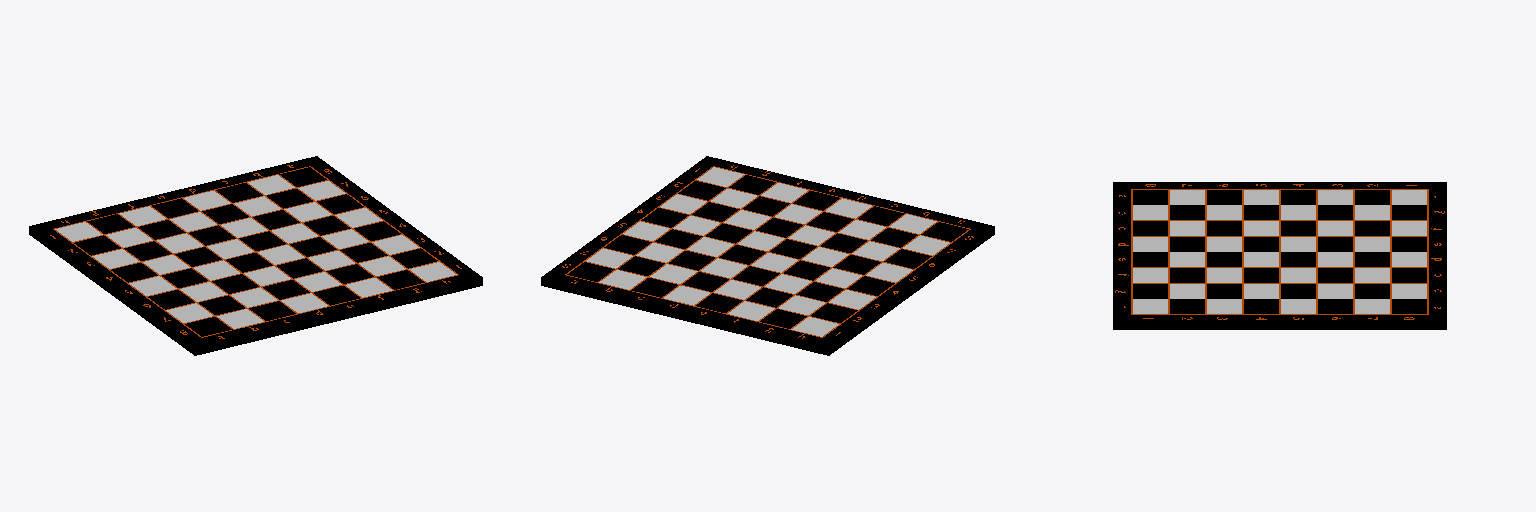
Rendered from ChessBoard.obj.
The picture shows the model from 3 angles: view 1: azimuth 30°, elevation 25°; view 2: azimuth 150°, elevation 25°; view 3: azimuth 270°, elevation 25°; orthographic projection.
Parts seen in each view (by area): view 1: Board; view 2: Board; view 3: Board.
Part boxes in pixels (left/top/right/bottom): Board: left=29, top=156, right=482, bottom=355; Board: left=541, top=156, right=994, bottom=355; Board: left=1113, top=182, right=1446, bottom=329.
Bounding box in the file's own units: 18.9 × 0.501 × 18.9.